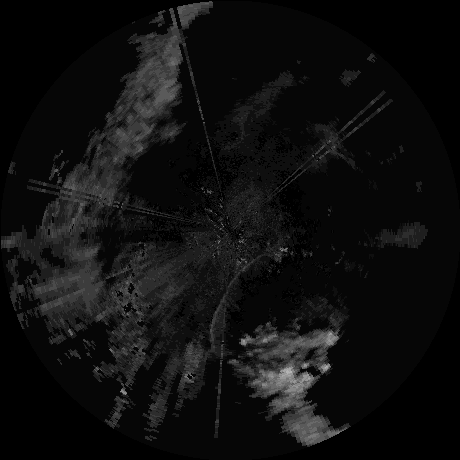frontgust: (208, 251, 266, 349)
